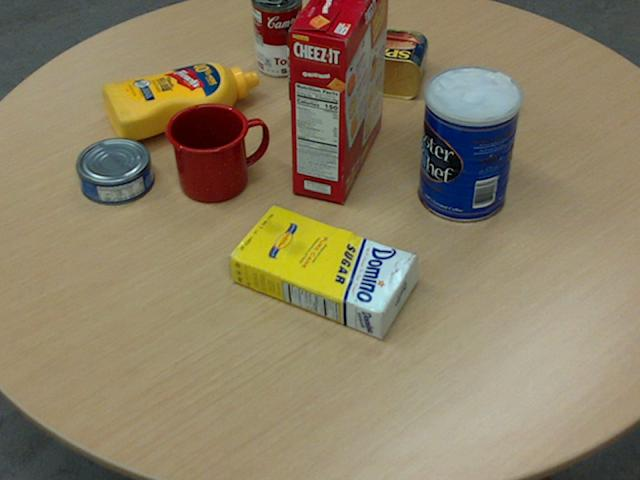cracker_box: (287, 0, 389, 202)
gelatin_box: (429, 71, 516, 137)
large_marker: (286, 23, 301, 112)
master_chef_can: (417, 66, 521, 222)
mug: (164, 102, 267, 201)
mustard_bottle: (101, 61, 258, 140)
potted_meat_can: (343, 27, 427, 98)
sugar_box: (225, 204, 418, 339)
tomato_soup_can: (252, 0, 304, 75)
tuna_fish_can: (75, 136, 153, 203)
